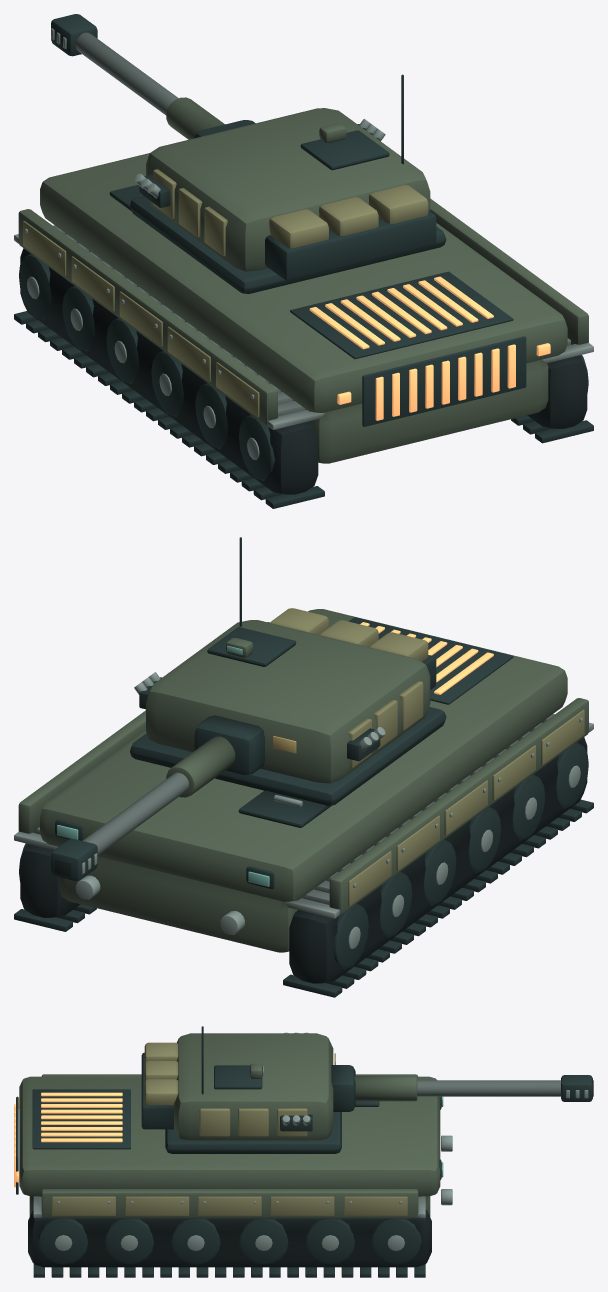
File: kf-bastion.glb
The picture shows the model from 3 angles, top to bottom: view 1: azimuth 30°, elevation 25°; view 2: azimuth 150°, elevation 25°; view 3: azimuth 270°, elevation 25°; orthographic projection. The views are drawn at different scales.
Visible parts, largest first — view 1: Hull Field olive, Hull Gunmetal, Turret Field olive, Turret Gunmetal, Hull Track rubber, Hull Engine heat, Turret Stowage canvas, Hull Stowage canvas, Hull Machined steel, Cannon Machined steel, Cannon Field olive, Cannon Gunmetal; view 2: Hull Field olive, Turret Field olive, Hull Gunmetal, Hull Track rubber, Turret Gunmetal, Hull Stowage canvas, Turret Stowage canvas, Hull Machined steel, Cannon Machined steel, Cannon Field olive, Hull Engine heat, Cannon Gunmetal; view 3: Hull Field olive, Hull Gunmetal, Turret Field olive, Hull Track rubber, Turret Gunmetal, Hull Stowage canvas, Turret Stowage canvas, Hull Engine heat, Cannon Machined steel, Hull Machined steel, Cannon Field olive, Cannon Gunmetal.
Boxes of the visible parts, x1,y1,x2,y2 form: Hull Field olive: (18, 153, 588, 463); Hull Gunmetal: (14, 185, 593, 508); Turret Field olive: (146, 108, 430, 271); Turret Gunmetal: (130, 74, 446, 293); Hull Track rubber: (20, 248, 587, 494); Hull Engine heat: (309, 276, 550, 420); Turret Stowage canvas: (153, 169, 428, 256); Hull Stowage canvas: (23, 221, 259, 417); Hull Machined steel: (14, 194, 593, 459); Cannon Machined steel: (51, 28, 178, 115); Cannon Field olive: (166, 97, 224, 139); Cannon Gunmetal: (51, 14, 97, 56); Hull Field olive: (18, 609, 588, 952); Turret Field olive: (146, 620, 430, 783); Hull Gunmetal: (14, 617, 593, 997); Hull Track rubber: (20, 737, 587, 983); Turret Gunmetal: (130, 537, 446, 805); Hull Stowage canvas: (348, 709, 584, 906); Turret Stowage canvas: (270, 608, 428, 768); Hull Machined steel: (14, 714, 593, 948); Cannon Machined steel: (81, 772, 188, 874); Cannon Field olive: (166, 736, 235, 797); Hull Engine heat: (360, 622, 493, 694); Cannon Gunmetal: (51, 839, 97, 880); Hull Field olive: (19, 1074, 440, 1218); Hull Gunmetal: (16, 1089, 441, 1277); Turret Field olive: (174, 1033, 333, 1140); Hull Track rubber: (28, 1209, 431, 1267); Turret Gunmetal: (141, 1026, 355, 1153); Hull Stowage canvas: (52, 1196, 407, 1215); Turret Stowage canvas: (144, 1042, 307, 1136); Hull Engine heat: (14, 1092, 122, 1187); Cannon Machined steel: (417, 1080, 588, 1098); Hull Machined steel: (33, 1135, 452, 1250); Cannon Field olive: (354, 1075, 417, 1101); Cannon Gunmetal: (561, 1075, 592, 1101).
Bounding box in the file's own units: 4.25 × 3.61 × 8.54.
